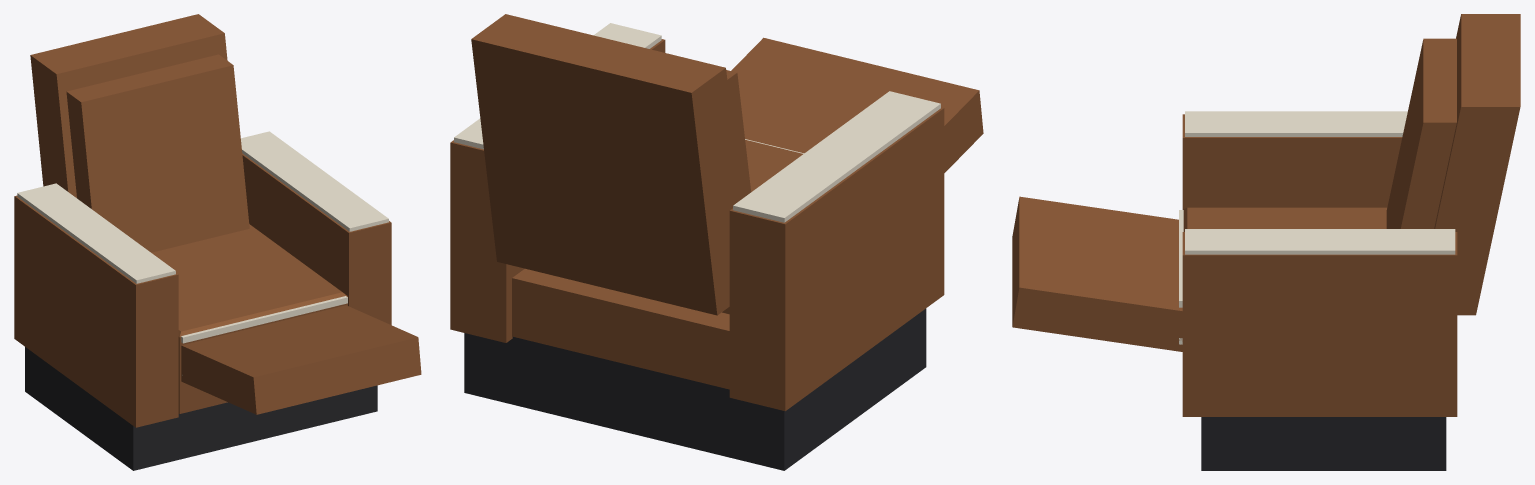
The model's file is FN_Chair_Recliner.glb.
The picture shows the model from 3 angles, left to right: view 1: azimuth 30°, elevation 25°; view 2: azimuth 150°, elevation 25°; view 3: azimuth 270°, elevation 25°; orthographic projection. The views are drawn at different scales.
Visible parts, largest first — view 1: FN_Chair_Recliner; view 2: FN_Chair_Recliner; view 3: FN_Chair_Recliner.
Part boxes in pixels (x1,y1,x2,y2): FN_Chair_Recliner: [14, 14, 421, 470]; FN_Chair_Recliner: [450, 14, 983, 470]; FN_Chair_Recliner: [1012, 14, 1520, 470].
Size of the model in its own units: 0.9 by 1.02 by 1.37.
Materials: 1 (1 with a texture image).
